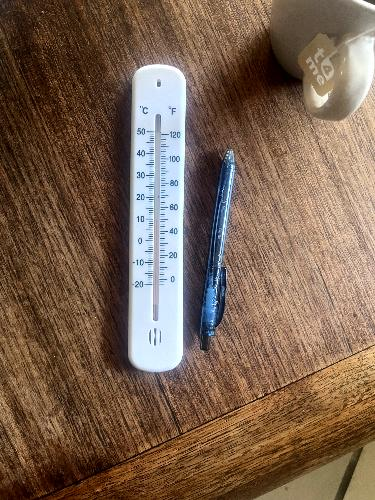thermo: (127, 64, 189, 369)
